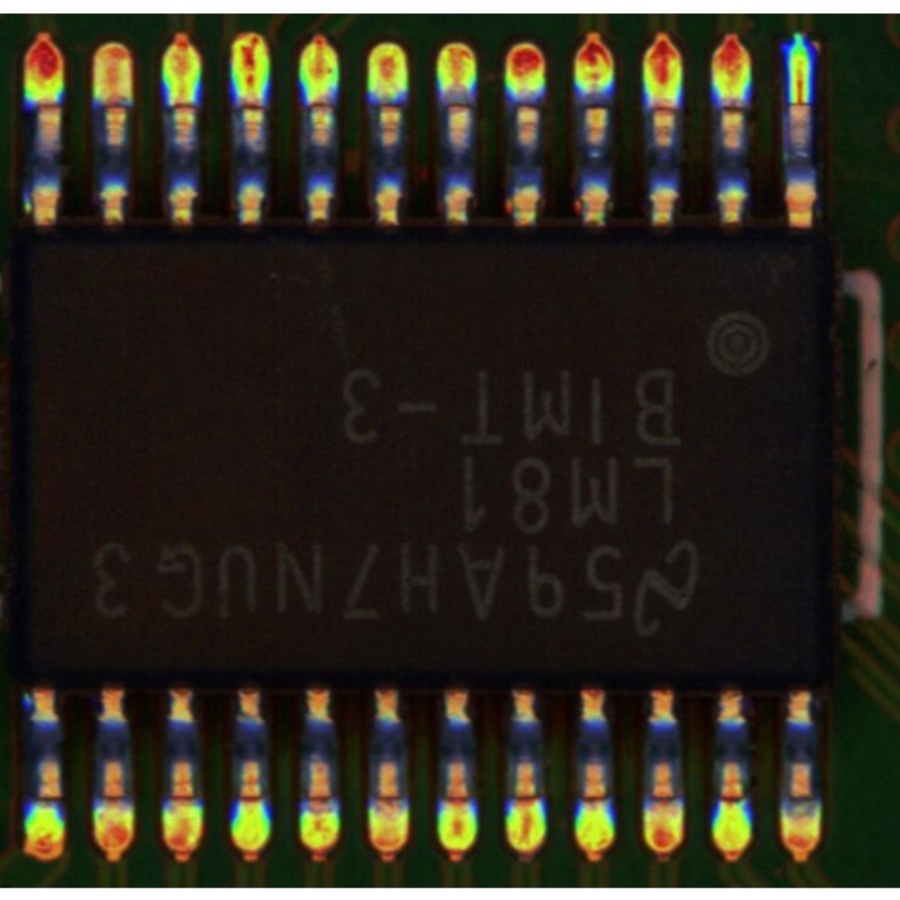Bad_podu: (240, 74, 262, 118), (171, 84, 191, 129), (512, 782, 535, 819), (649, 784, 674, 818), (107, 85, 125, 131), (307, 788, 331, 820), (445, 785, 468, 815), (374, 790, 398, 818), (791, 82, 809, 114)
